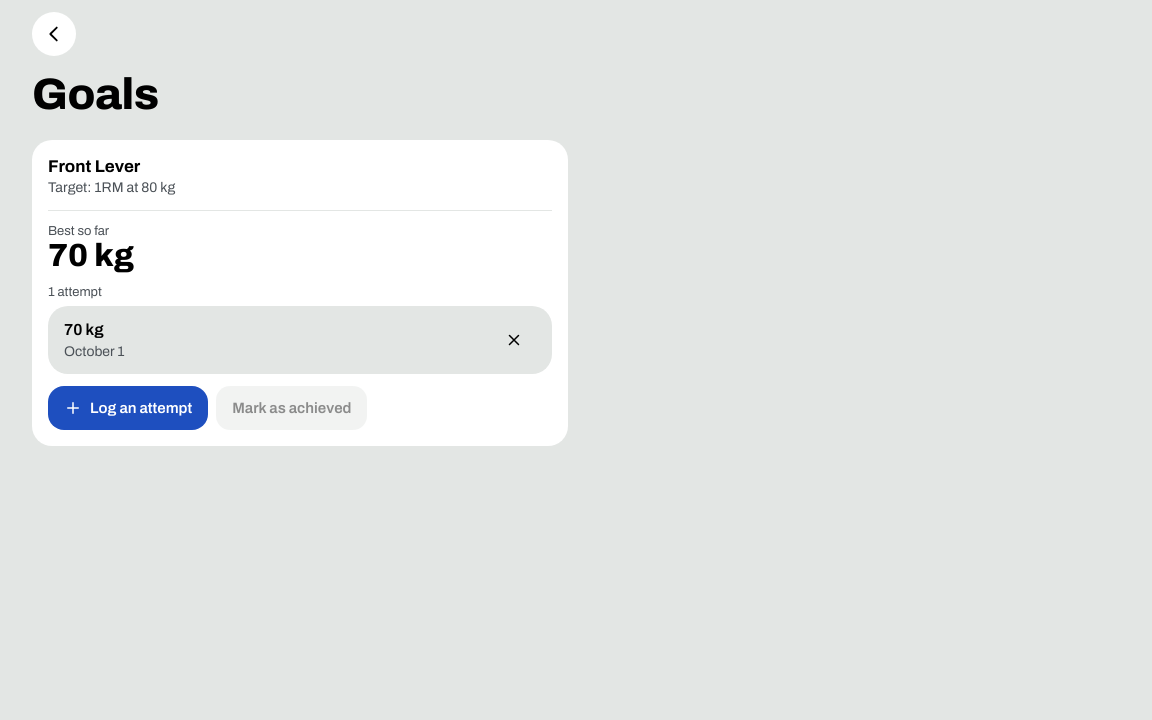
it: MyGoals: a goal › offline, offers no write that would wait: mark achieved and delete are off, and say why
Expected: the button "Mark as achieved" is disabled, [216,386,368,430]
Expected: the button named "Delete attempt logged on October 1" is disabled, [492,318,536,362]
Click the button "Log an attempt" at x=128, y=408, box [48,386,208,430]
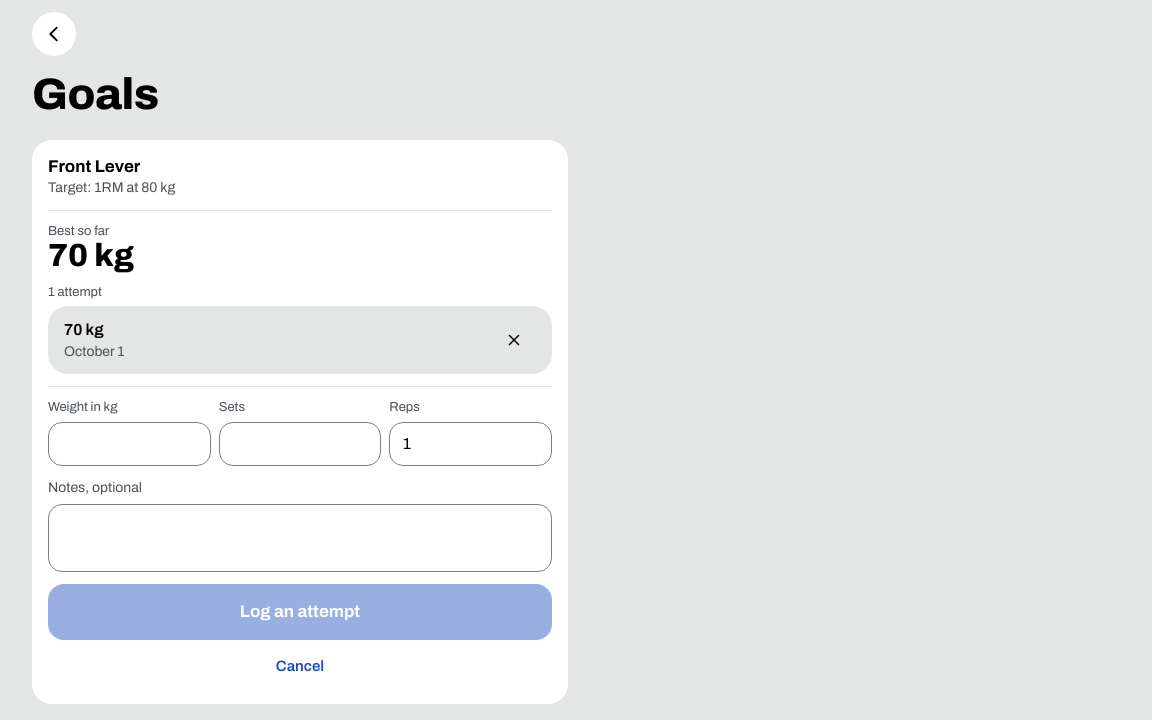
Now the button "Log an attempt" is disabled, box [48,584,552,640]
